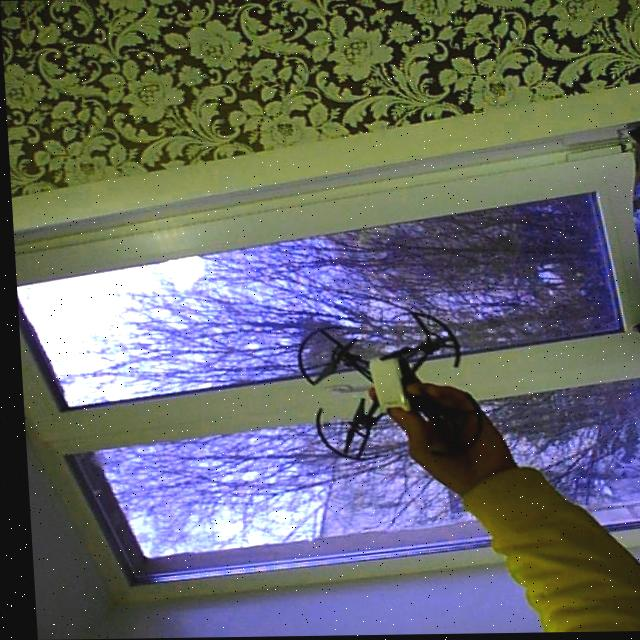drone: (293, 304, 463, 465)
